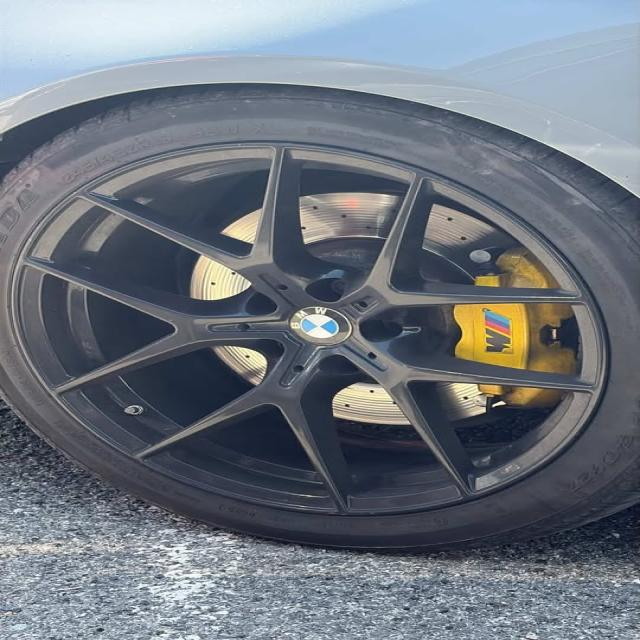jante: (14, 142, 606, 518)
parafuso: (302, 273, 358, 304), (351, 315, 406, 344), (238, 291, 282, 318), (250, 337, 293, 361), (322, 355, 361, 377)
roda: (0, 82, 640, 552)
